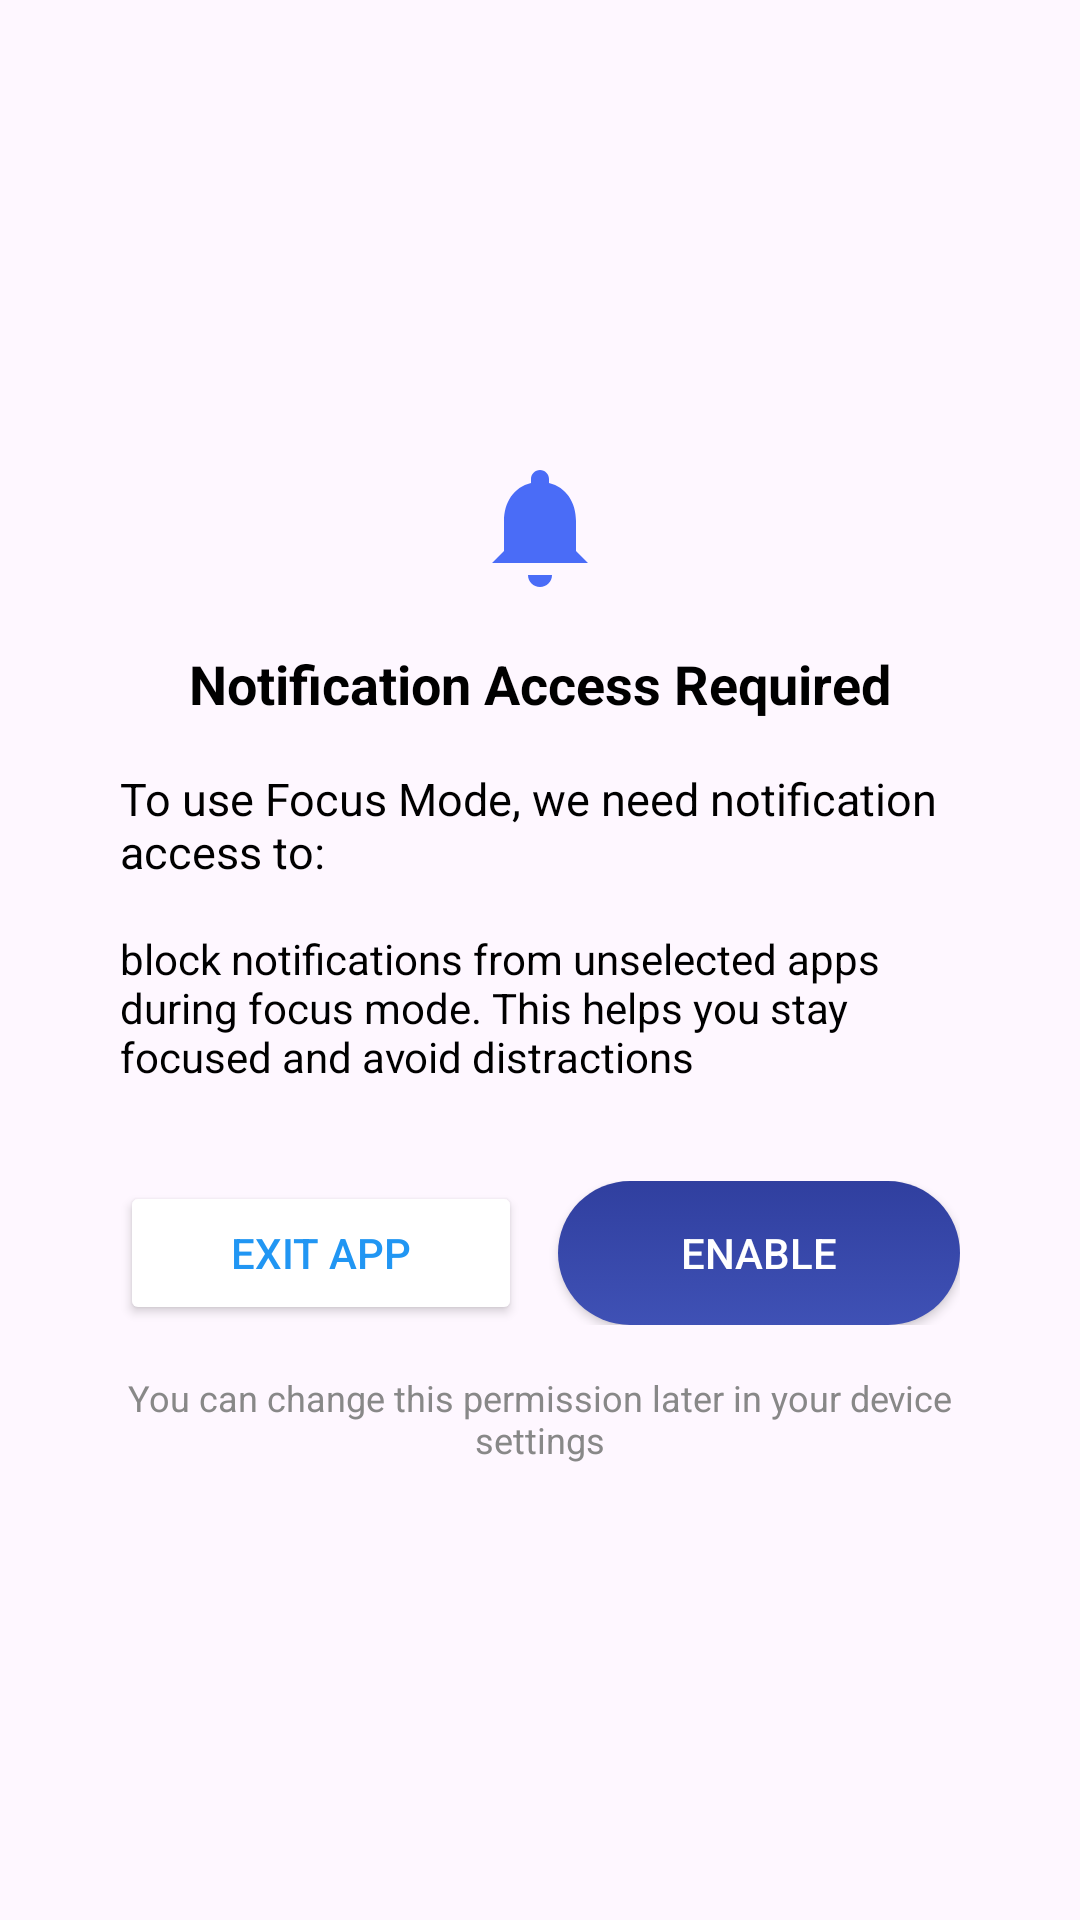

Icons on this 1080px×1920px Android screen, each with the point to tap as (x=x, y=y):
bell: (x=540, y=528)
